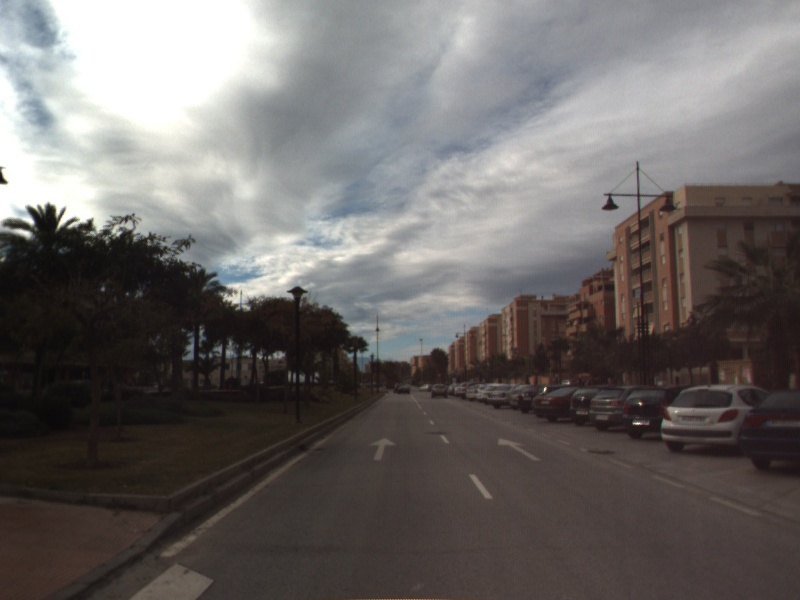STRAIGHT: (496, 436, 544, 462), (368, 436, 398, 462)
